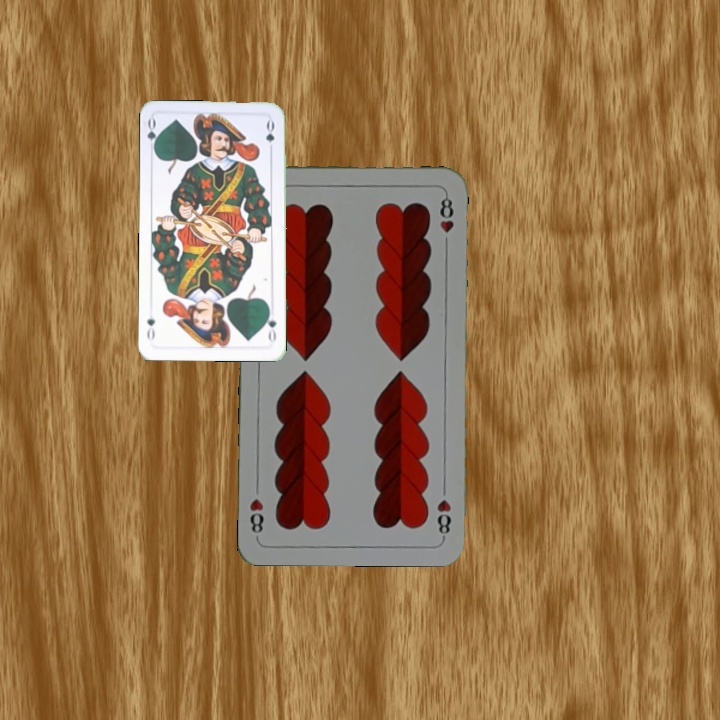GO: (143, 115, 162, 156), (262, 304, 279, 344)
H8: (433, 495, 454, 540)
